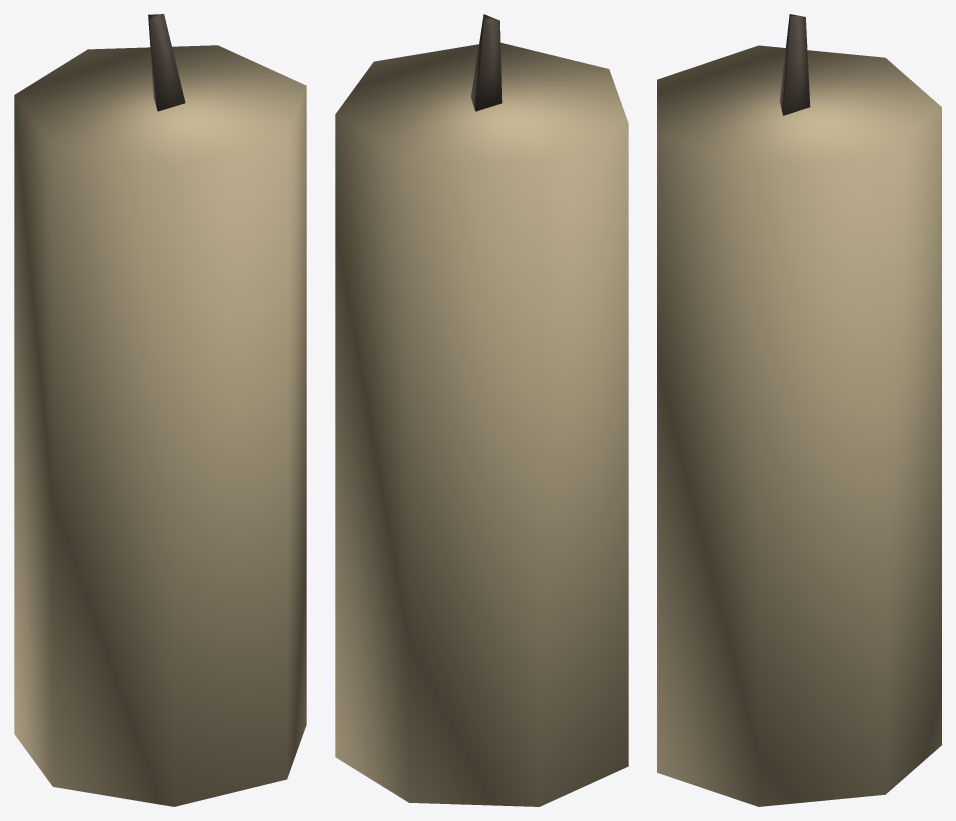
The model's file is candle.glb.
3 renders of one model, left to right at view 1: azimuth 30°, elevation 25°; view 2: azimuth 150°, elevation 25°; view 3: azimuth 270°, elevation 25°, orthographic.
Visible parts, largest first — view 1: Candle; view 2: Candle; view 3: Candle.
Part boxes in pixels (x1,y1,x2,y2): Candle: (14, 14, 306, 806); Candle: (335, 14, 628, 806); Candle: (657, 14, 941, 806).
Size of the model in its own units: 0.0858 by 0.2358 by 0.0836.
